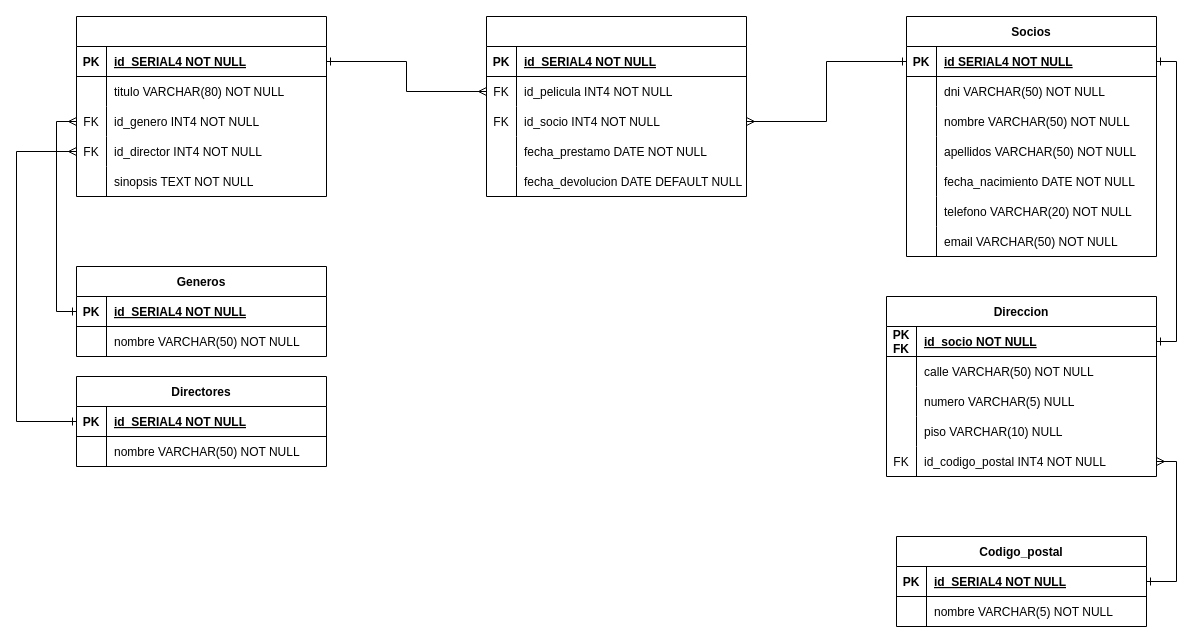
The diagram is 1193 pixels wide and 643 high, and some of its shapes have lost their labels. The shapes that lost their labels are listed below. From the top down, each one's box as (x1, y1, x2, y2) in pixels, then its label:
(76, 16, 326, 196): Peliculas
(486, 16, 746, 196): Prestamos
